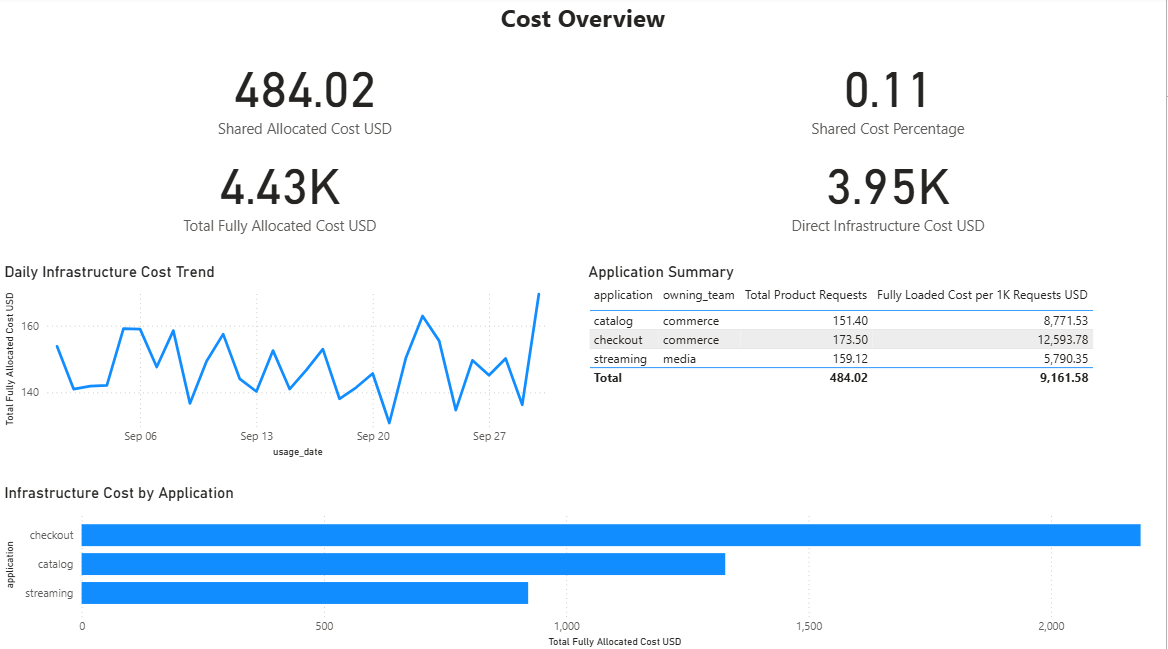

The page's visual inventory and layout, read from the dashboard file:
{"tool":"powerbi","page":{"name":"Infrastructure Cost Overview","canvas":[1280,720],"ordinal":0},"visuals":[{"type":"card","fields":{"Values":["dim_date.Total Fully Allocated Cost USD"]},"box":[0,160.5,614.8,105.7],"z":0},{"type":"card","fields":{"Values":["dim_date.Direct Infrastructure Cost USD"]},"box":[669.6,160.5,610.6,105.7],"z":1000},{"type":"card","fields":{"Values":["dim_date.Shared Allocated Cost USD"]},"box":[0,52.1,669.6,108.4],"z":2000},{"type":"card","fields":{"Values":["dim_date.Shared Cost Percentage"]},"box":[669.6,52.1,610.6,108.4],"z":3000},{"type":"lineChart","title":"Daily Infrastructure Cost Trend","fields":{"Category":["dim_date.usage_date"],"Y":["dim_date.Total Fully Allocated Cost USD"]},"box":[0,292.3,614.8,219.6],"z":4000},{"type":"clusteredBarChart","title":"Infrastructure Cost by Application","fields":{"Y":["dim_date.Total Fully Allocated Cost USD"],"Category":["dim_application.application"]},"box":[0,535.2,1280.3,185.2],"z":4001},{"type":"tableEx","title":"Application Summary","fields":{"Values":["dim_application.application","dim_application.owning_team","dim_date.Total Product Requests","dim_date.Fully Loaded Cost per 1K Requests USD"]},"box":[640.8,292.3,639.5,219.6],"z":4002},{"type":"textbox","box":[0,0,1280.3,52.1],"z":4003}]}

Visuals, with their boxes in screenshot pixels (x1, y1, x2, y2), scaled from the page's 1280x720 canvas onto the 1168x649 screenshot:
card - dim_date.Total Fully Allocated Cost USD: {"left": 0, "top": 145, "right": 561, "bottom": 240}
card - dim_date.Direct Infrastructure Cost USD: {"left": 611, "top": 145, "right": 1167, "bottom": 240}
card - dim_date.Shared Allocated Cost USD: {"left": 0, "top": 47, "right": 611, "bottom": 145}
card - dim_date.Shared Cost Percentage: {"left": 611, "top": 47, "right": 1167, "bottom": 145}
"Daily Infrastructure Cost Trend" lineChart: {"left": 0, "top": 263, "right": 561, "bottom": 461}
"Infrastructure Cost by Application" clusteredBarChart: {"left": 0, "top": 482, "right": 1167, "bottom": 648}
"Application Summary" tableEx: {"left": 585, "top": 263, "right": 1167, "bottom": 461}
textbox: {"left": 0, "top": 0, "right": 1167, "bottom": 47}
